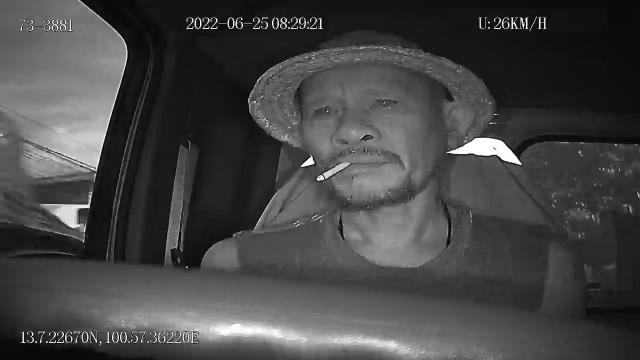SafeDriving: (307, 94, 346, 124), (367, 89, 408, 116)
Smoking: (316, 161, 352, 183)
